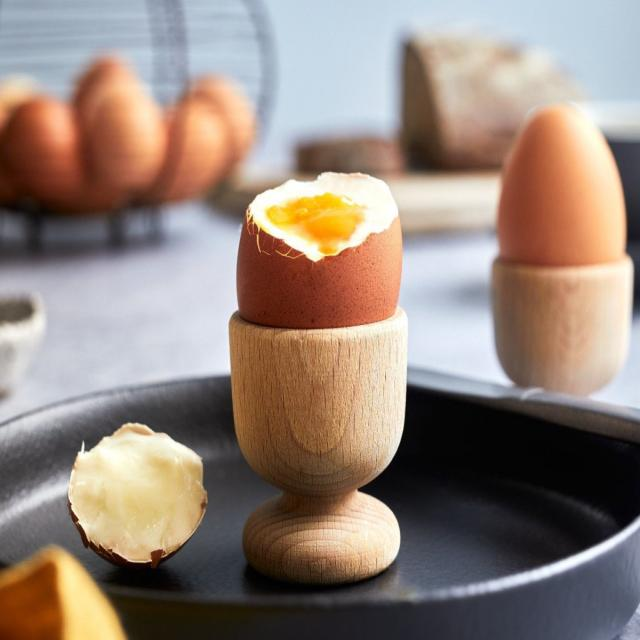boiled egg: (243, 139, 437, 334)
